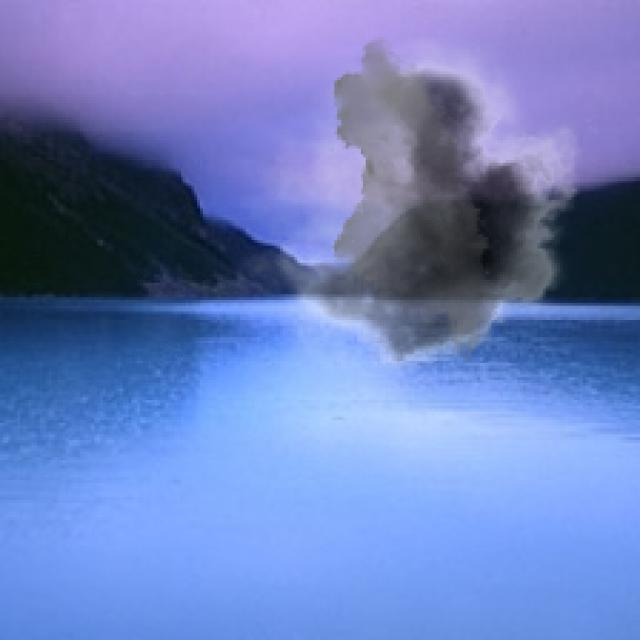smoke: (237, 37, 597, 392)
